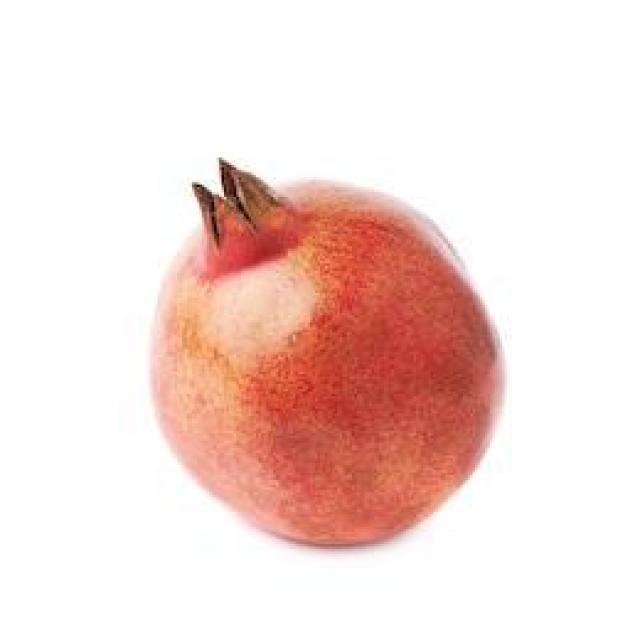Pomegranate: (142, 151, 509, 555)
